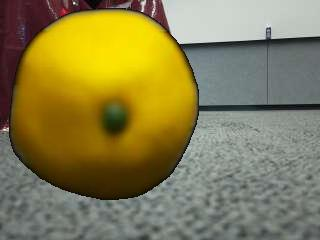lemon: (12, 11, 199, 198)
